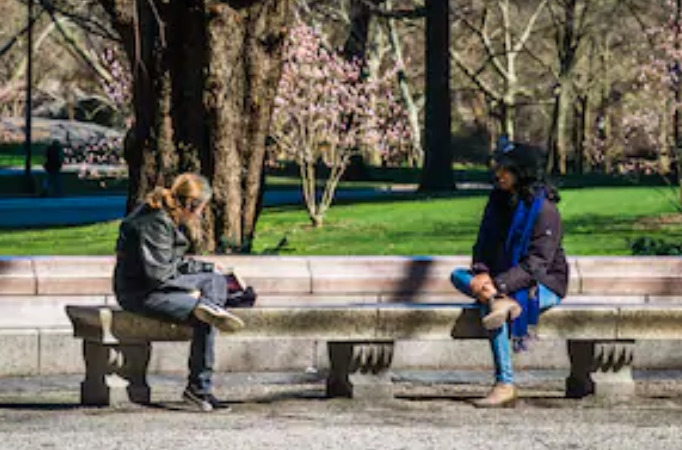Good: (114, 142, 569, 411)
